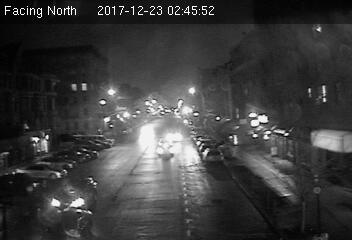car: (50, 175, 98, 210), (202, 148, 224, 164), (156, 142, 176, 157)
